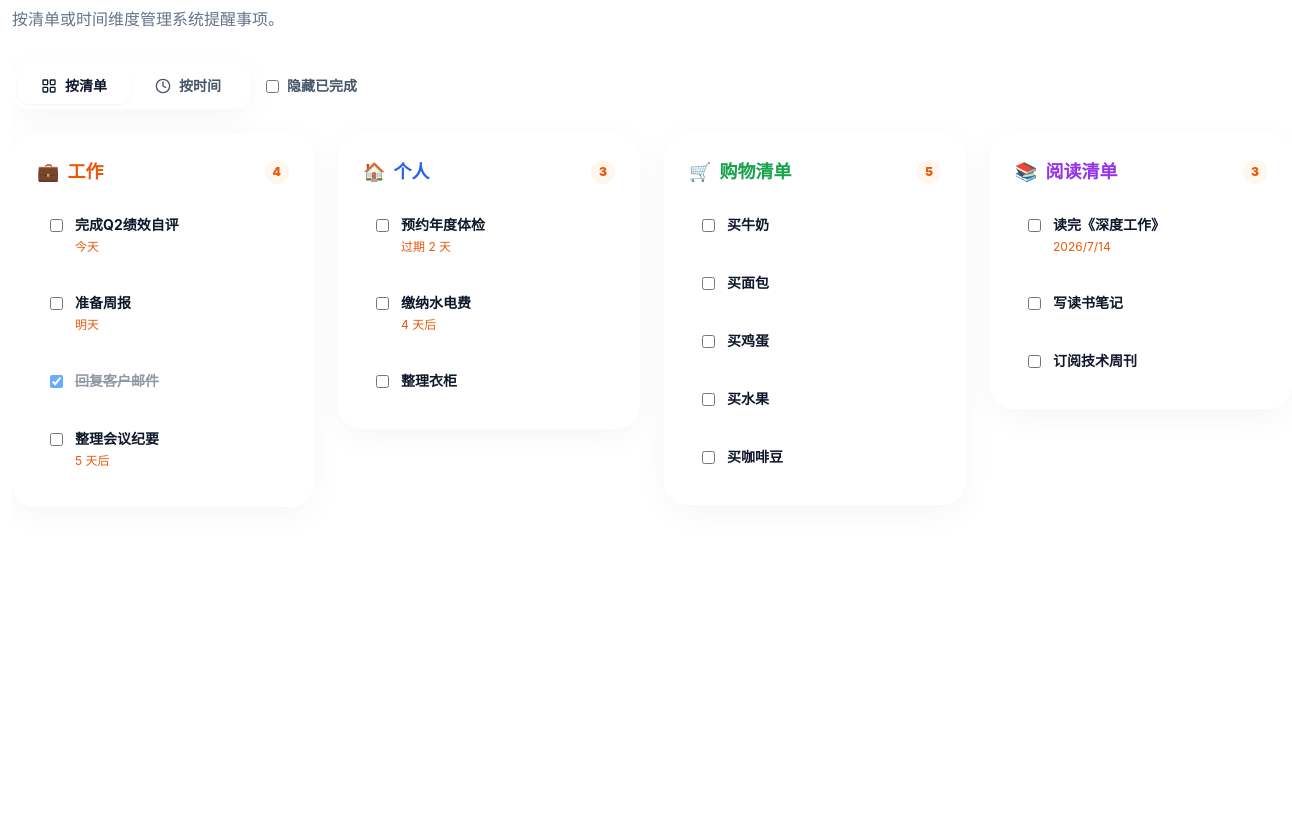
RemindersView › By Time View › should display placeholder when expanded group is empty
Note: 切换到按时间视图
Click the button "按时间": x=188, y=86 131,68 -> 245,104
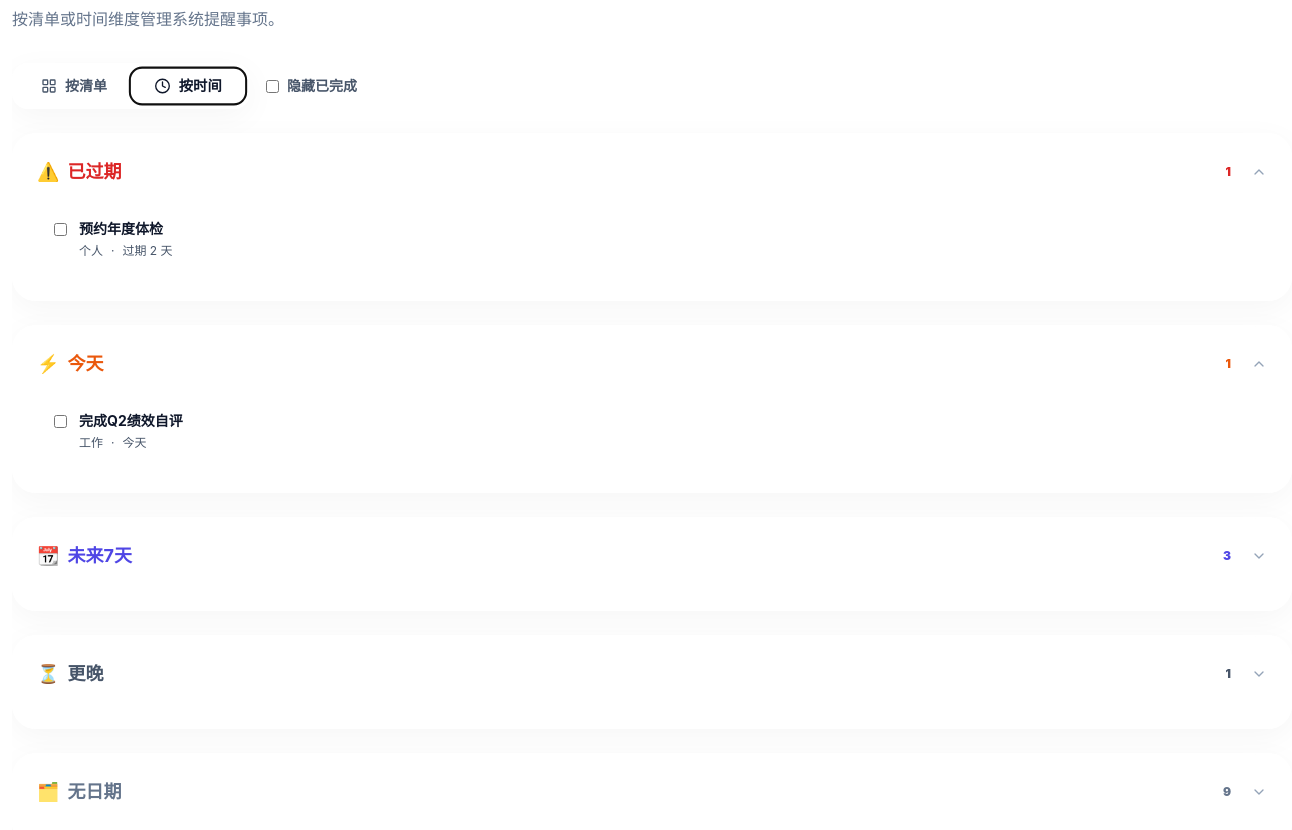
Expected: the text "完成Q2绩效自评" is shown, 79,412 -> 183,429
Expected: the heading "⚠️ 已过期" is shown, 37,158 -> 122,186
Click the button "🗂️ 无日期 9": x=94, y=792 37,778 -> 1267,806
(page scrolled)
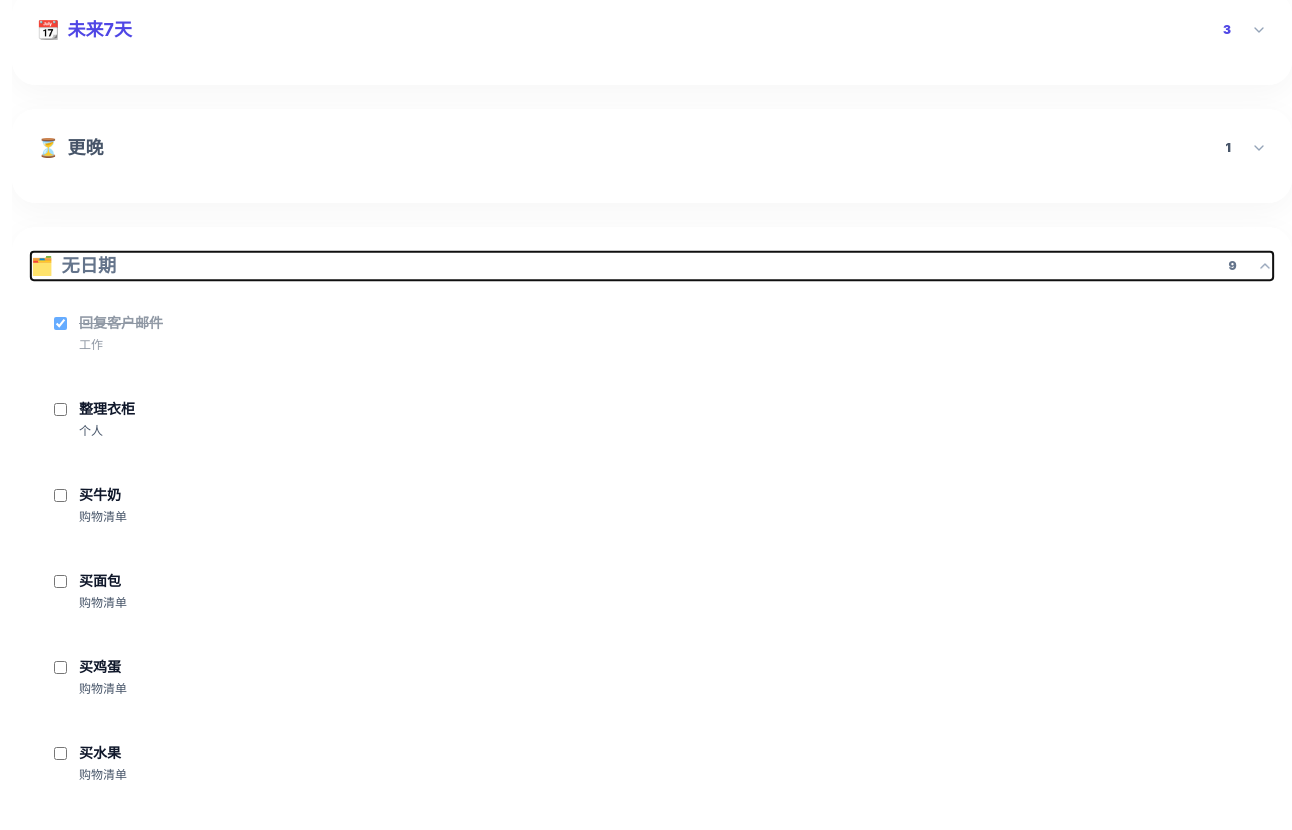
Expected: the text "整理衣柜" is shown, 79,400 -> 135,417
